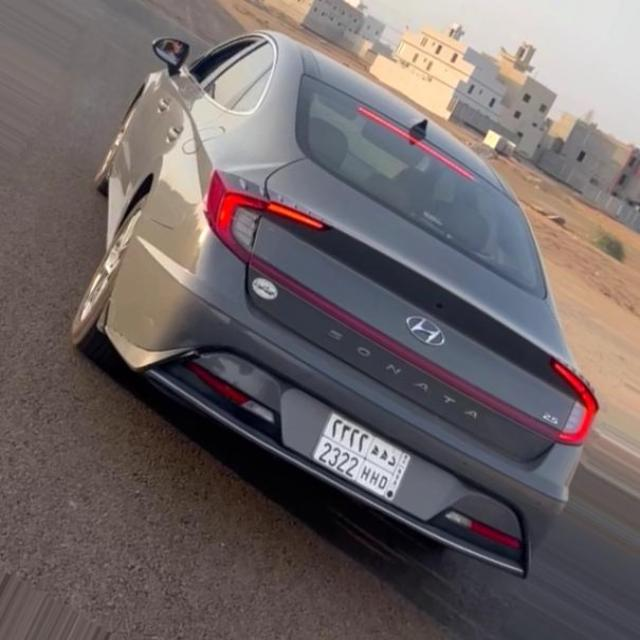Car-plate: (300, 398, 423, 518)
